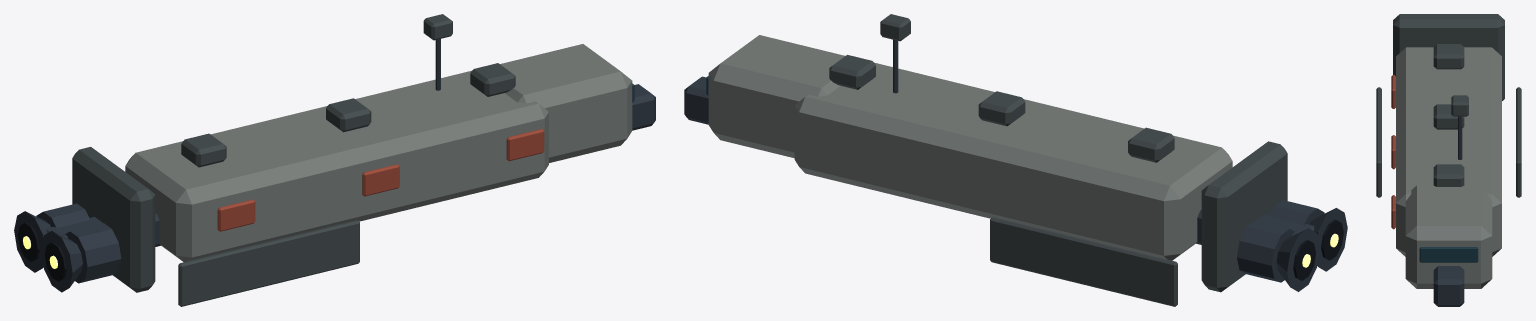
The model's file is patient-vector.glb.
3 views of the same model, side by side, from view 1: azimuth 30°, elevation 25°; view 2: azimuth 150°, elevation 25°; view 3: azimuth 270°, elevation 25° (orthographic). The views are drawn at different scales.
Visible parts, largest first — view 1: armored mission hull, forward command, shuttered radiator, reactor shield, engine jacket, structural spine, engine bell, dorsal mount, dorsal mount.001, dorsal mount.002, weapon access, weapon access.002 (+6 smaller); view 2: armored mission hull, forward command, shuttered radiator.001, reactor shield, engine jacket.001, structural spine, engine bell.001, dorsal mount.001, dorsal mount, dorsal mount.002, engine bell, engine jacket (+3 smaller); view 3: armored mission hull, forward command, reactor shield, structural spine, bridge glazing, dorsal mount, dorsal mount.002, shuttered radiator, shuttered radiator.001, dorsal mount.001, sensor head, radio mast (+3 smaller).
Boxes of the visible parts, x1,y1,x2,y2 form: armored mission hull: (125, 70, 548, 261); forward command: (500, 44, 632, 162); shuttered radiator: (178, 220, 359, 306); reactor shield: (72, 147, 155, 292); engine jacket: (65, 223, 121, 283); structural spine: (46, 84, 655, 246); engine bell: (41, 231, 82, 292); dorsal mount: (181, 133, 226, 167); dorsal mount.001: (326, 98, 371, 132); dorsal mount.002: (470, 63, 515, 96); weapon access: (217, 199, 255, 231); weapon access.002: (506, 129, 544, 161); armored mission hull: (794, 62, 1232, 260); forward command: (708, 35, 844, 158); shuttered radiator.001: (990, 217, 1177, 306); reactor shield: (1201, 141, 1287, 292); engine jacket.001: (1237, 220, 1294, 282); structural spine: (684, 76, 1314, 244); engine bell.001: (1276, 228, 1317, 291); dorsal mount.001: (978, 91, 1025, 126); dorsal mount: (1128, 127, 1174, 162); dorsal mount.002: (829, 54, 875, 89); engine bell: (1309, 208, 1347, 271); engine jacket: (1269, 200, 1324, 225); armored mission hull: (1396, 47, 1501, 256); forward command: (1405, 185, 1492, 288); reactor shield: (1393, 14, 1504, 100); structural spine: (1433, 266, 1464, 306); bridge glazing: (1419, 247, 1478, 262); dorsal mount: (1433, 44, 1464, 69); dorsal mount.002: (1433, 164, 1464, 186); shuttered radiator: (1376, 87, 1381, 197); shuttered radiator.001: (1516, 87, 1521, 197); dorsal mount.001: (1433, 104, 1464, 129); sensor head: (1451, 95, 1468, 116); radio mast: (1458, 116, 1462, 159).
Bounding box in the file's own units: 10.74 × 3 × 2.6.
